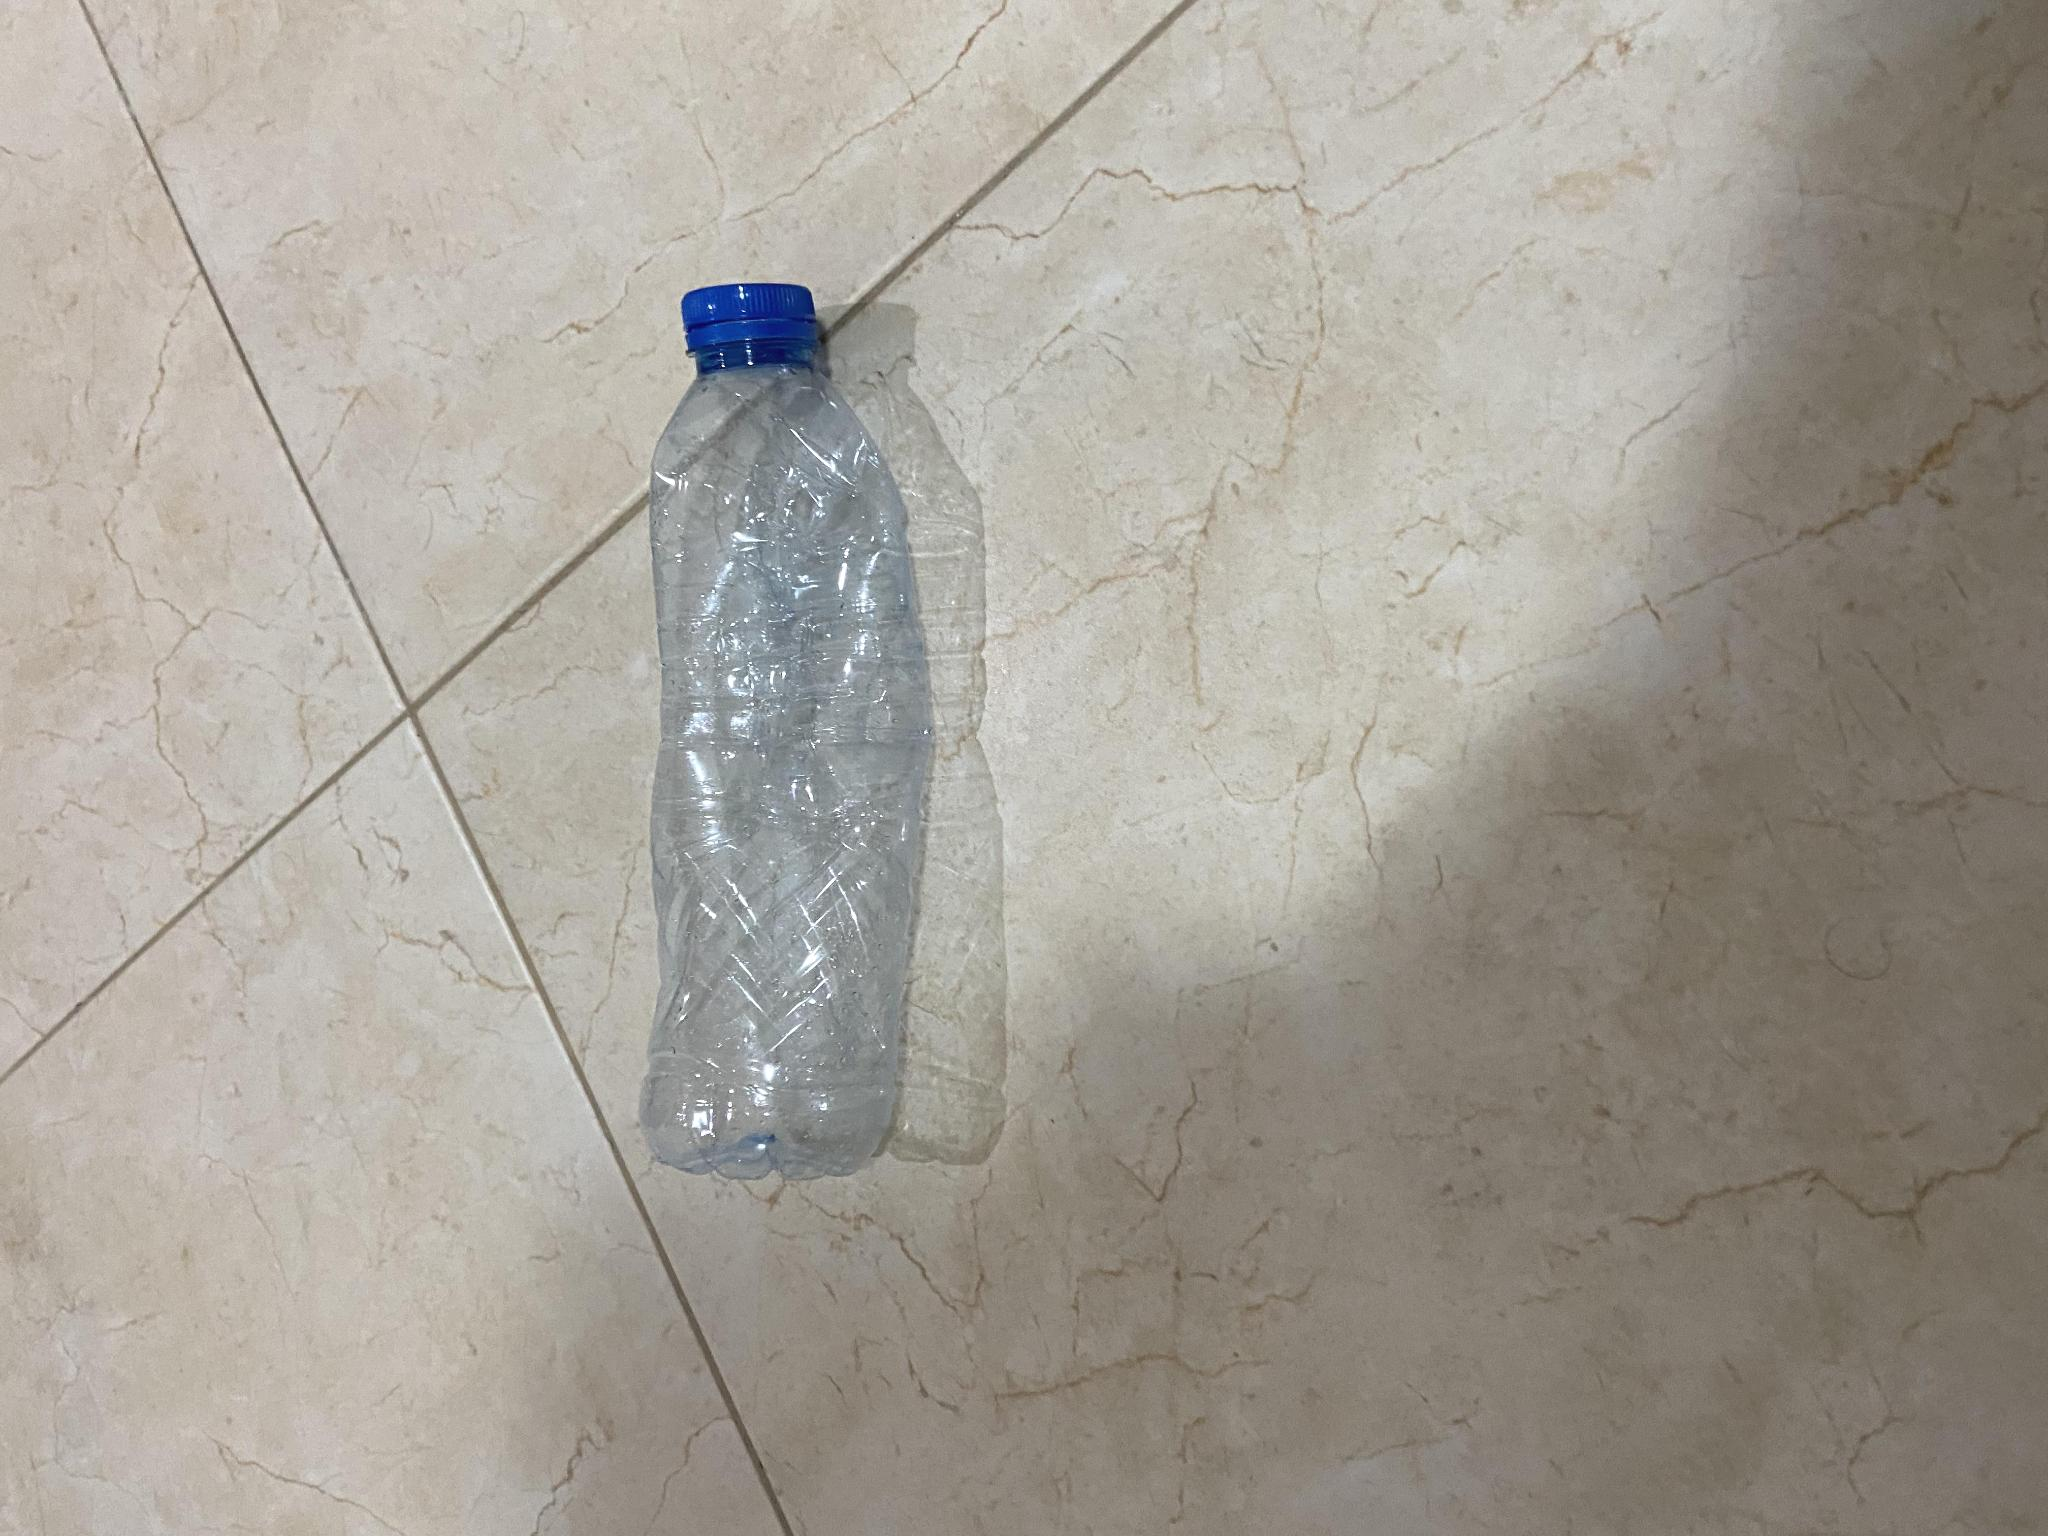bottle: (619, 282, 937, 1187)
